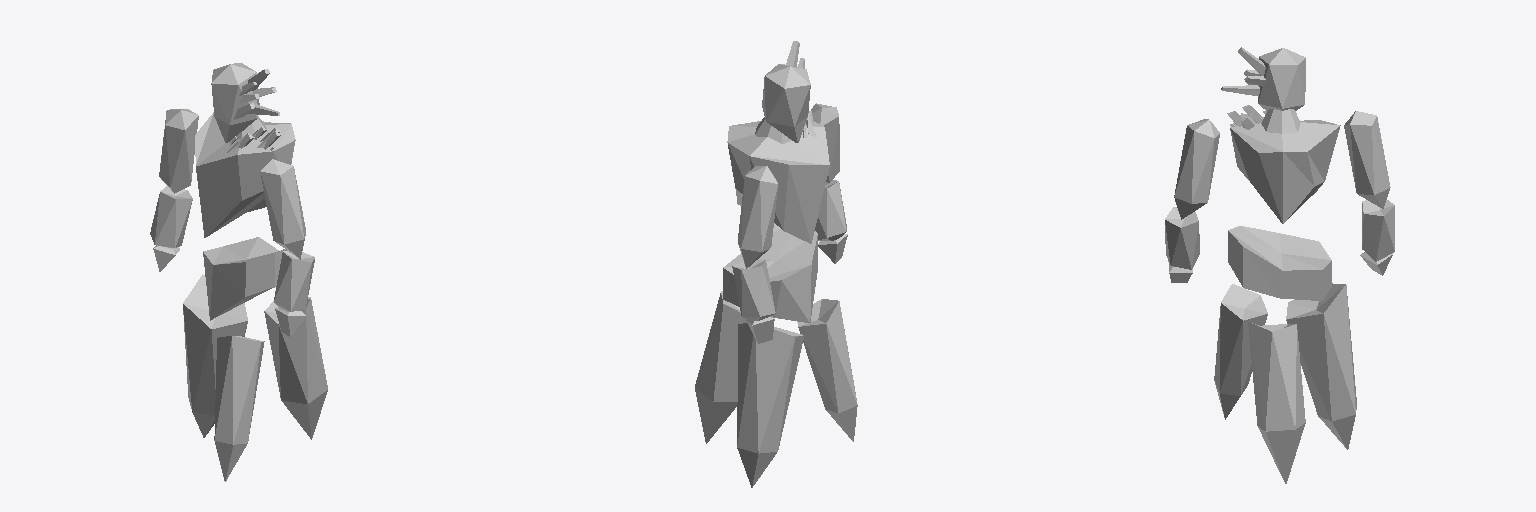
Rendered from ghostIdle26.obj.
3 views of the same model, side by side, from view 1: azimuth 30°, elevation 25°; view 2: azimuth 150°, elevation 25°; view 3: azimuth 270°, elevation 25° (orthographic).
Parts seen in each view (by area): view 1: Cube.001_Cube.001, Icosphere.003, Icosphere.004, Icosphere.005, Cube_Cube.002, Icosphere.005_Icosphere.001, Icosphere.007_Icosphere.001, Icosphere.003_Icosphere.001, Icosphere.008_Icosphere.001, Icosphere.006_Icosphere.001, Cube.002_Cube.001; view 2: Icosphere.005, Cube.001_Cube.001, Icosphere.003, Cube_Cube.002, Icosphere.004, Icosphere.007_Icosphere.001, Icosphere.003_Icosphere.001, Icosphere.008_Icosphere.001, Icosphere.006_Icosphere.001, Icosphere.005_Icosphere.001; view 3: Cube.001_Cube.001, Icosphere.005, Icosphere.004, Cube_Cube.002, Icosphere.003, Icosphere.005_Icosphere.001, Icosphere.007_Icosphere.001, Icosphere.003_Icosphere.001, Icosphere.006_Icosphere.001, Icosphere.008_Icosphere.001, Cone_Cone.002.
Boxes of the visible parts, x1=… form: Cube.001_Cube.001: x1=195, y1=112, x2=295, y2=237; Icosphere.003: x1=214, y1=336, x2=264, y2=481; Icosphere.004: x1=264, y1=297, x2=327, y2=439; Icosphere.005: x1=183, y1=274, x2=247, y2=437; Cube_Cube.002: x1=203, y1=237, x2=286, y2=320; Icosphere.005_Icosphere.001: x1=260, y1=159, x2=305, y2=259; Icosphere.007_Icosphere.001: x1=159, y1=109, x2=198, y2=193; Icosphere.003_Icosphere.001: x1=211, y1=63, x2=259, y2=142; Icosphere.008_Icosphere.001: x1=150, y1=186, x2=192, y2=247; Icosphere.006_Icosphere.001: x1=274, y1=251, x2=314, y2=311; Cube.002_Cube.001: x1=275, y1=307, x2=306, y2=336; Icosphere.005: x1=737, y1=323, x2=804, y2=487; Cube.001_Cube.001: x1=727, y1=121, x2=829, y2=243; Icosphere.003: x1=797, y1=299, x2=857, y2=441; Cube_Cube.002: x1=723, y1=223, x2=817, y2=322; Icosphere.004: x1=695, y1=291, x2=746, y2=443; Icosphere.007_Icosphere.001: x1=738, y1=166, x2=777, y2=268; Icosphere.003_Icosphere.001: x1=762, y1=64, x2=810, y2=142; Icosphere.008_Icosphere.001: x1=732, y1=260, x2=775, y2=320; Icosphere.006_Icosphere.001: x1=815, y1=180, x2=846, y2=240; Icosphere.005_Icosphere.001: x1=811, y1=103, x2=839, y2=184; Cube.001_Cube.001: x1=1230, y1=113, x2=1340, y2=223; Icosphere.005: x1=1286, y1=283, x2=1356, y2=449; Icosphere.004: x1=1248, y1=322, x2=1305, y2=483; Cube_Cube.002: x1=1228, y1=226, x2=1331, y2=300; Icosphere.003: x1=1214, y1=284, x2=1267, y2=419; Icosphere.005_Icosphere.001: x1=1174, y1=119, x2=1219, y2=219; Icosphere.007_Icosphere.001: x1=1344, y1=111, x2=1390, y2=208; Icosphere.003_Icosphere.001: x1=1258, y1=48, x2=1305, y2=110; Icosphere.006_Icosphere.001: x1=1165, y1=207, x2=1199, y2=269; Icosphere.008_Icosphere.001: x1=1362, y1=200, x2=1394, y2=261; Cone_Cone.002: x1=1261, y1=109, x2=1300, y2=133.
Bounding box in the file's own units: 16.65 × 49.3 × 25.31.